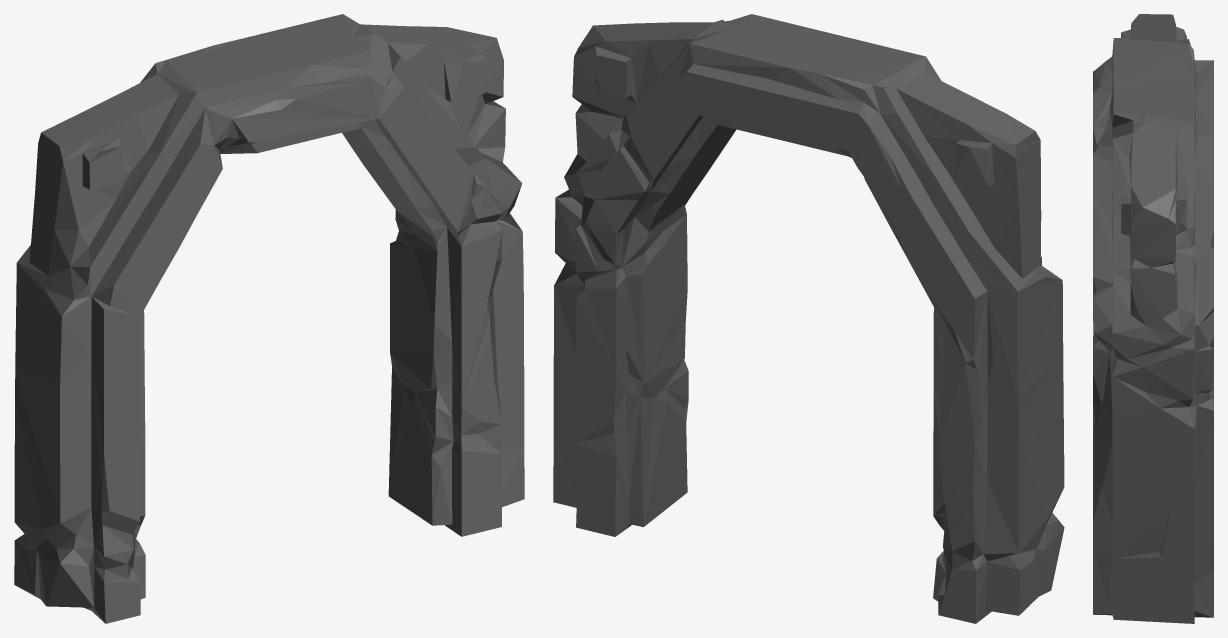
The model's file is SM_Env_Door_Large_Frame_02.FBX.
3 renders of one model, left to right at view 1: azimuth 30°, elevation 25°; view 2: azimuth 150°, elevation 25°; view 3: azimuth 270°, elevation 25°, orthographic. The views are drawn at different scales.
Visible parts, largest first — view 1: SM_Env_Door_Large_Frame_02; view 2: SM_Env_Door_Large_Frame_02; view 3: SM_Env_Door_Large_Frame_02.
Boxes of the visible parts, x1=… form: SM_Env_Door_Large_Frame_02: x1=14, y1=14, x2=524, y2=623; SM_Env_Door_Large_Frame_02: x1=553, y1=14, x2=1064, y2=623; SM_Env_Door_Large_Frame_02: x1=1093, y1=14, x2=1213, y2=623.
Size of what is drawn, in the model's own units: 532 by 133 by 546.
